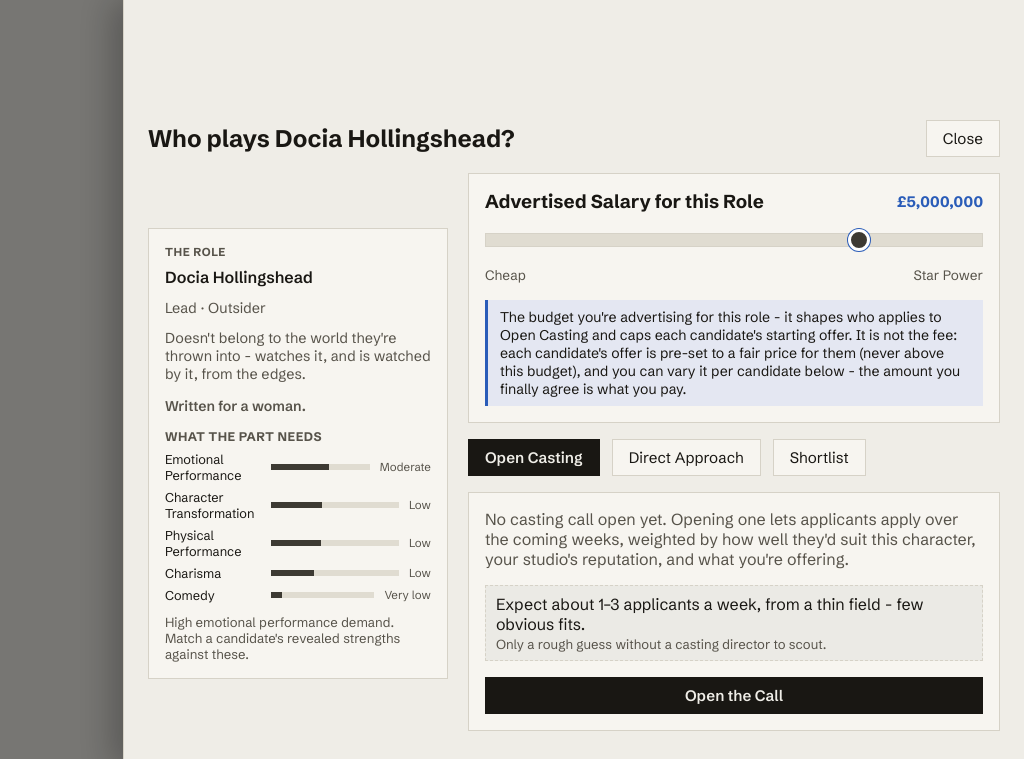
Test: CastingDrawer - Direct Approach fame gate › scouts only famous names when no casting director is hired
Click the button "Direct Approach" at (686, 458), box x1=612 y1=439 x2=761 y2=476
(page scrolled)
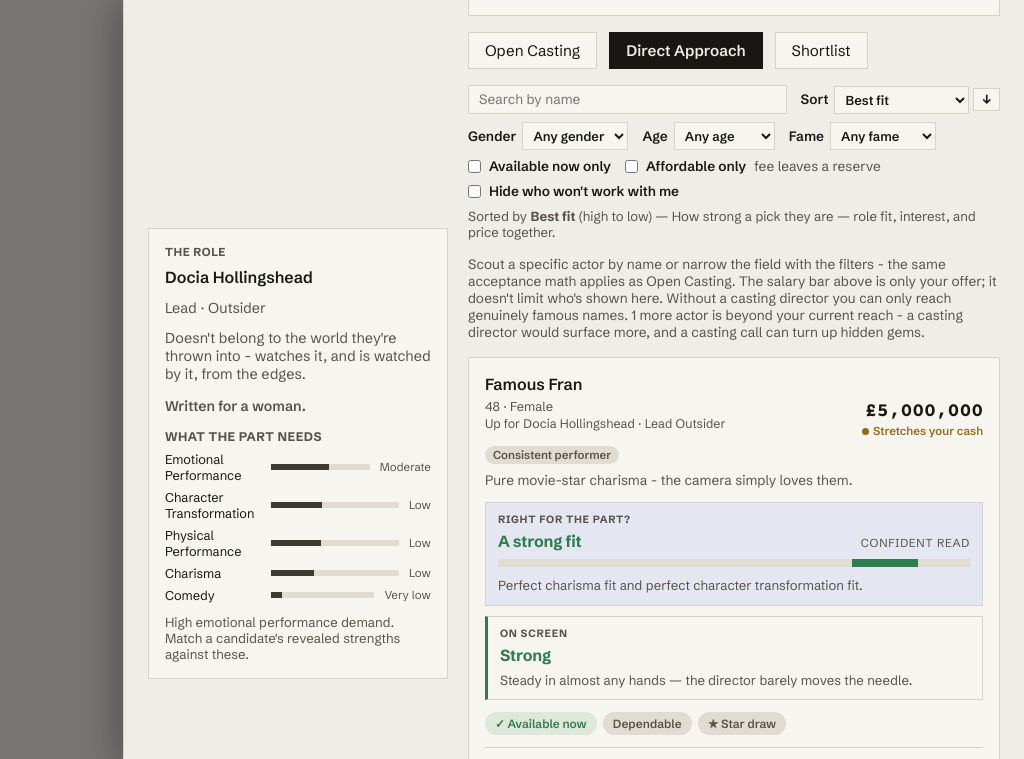
expect the text "Famous Fran" is shown: met, box x1=485 y1=374 x2=582 y2=394
